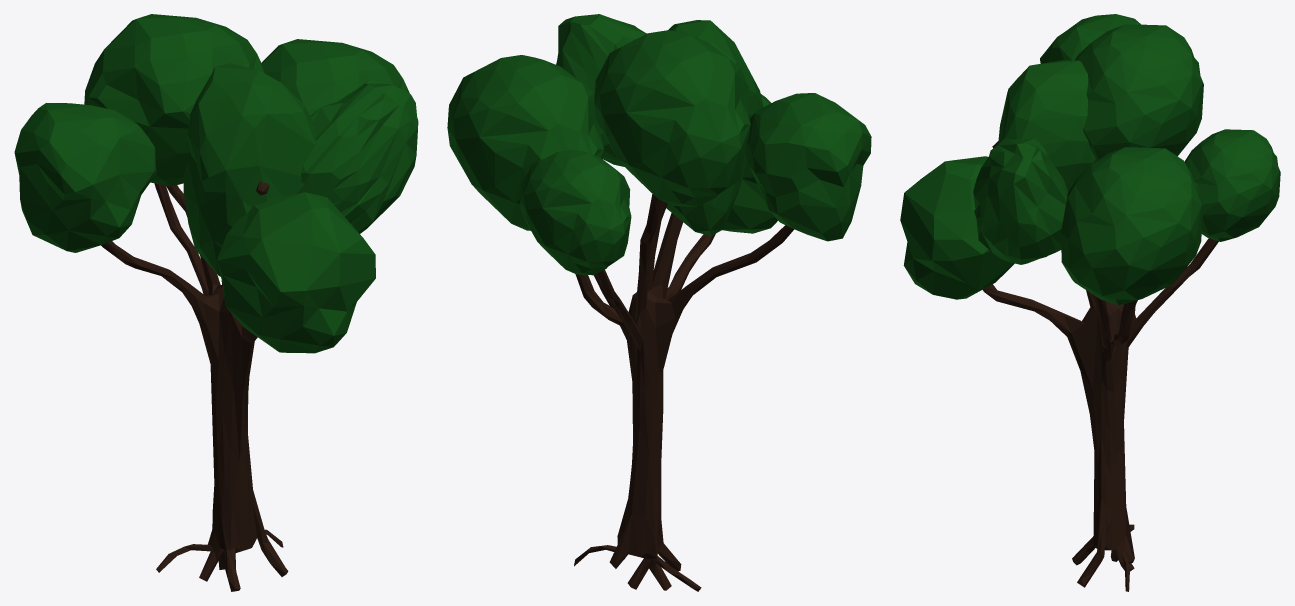
Rendered from SM_tree_13.fbx.
The picture shows the model from 3 angles, left to right: view 1: azimuth 30°, elevation 25°; view 2: azimuth 150°, elevation 25°; view 3: azimuth 270°, elevation 25°; orthographic projection. The views are drawn at different scales.
Visible parts, largest first — view 1: tree_13; view 2: tree_13; view 3: tree_13.
Boxes of the visible parts, x1=… form: tree_13: x1=14, y1=14, x2=418, y2=591; tree_13: x1=447, y1=14, x2=871, y2=591; tree_13: x1=900, y1=14, x2=1280, y2=591.
Bounding box in the file's own units: 1017 × 1377 × 914.
